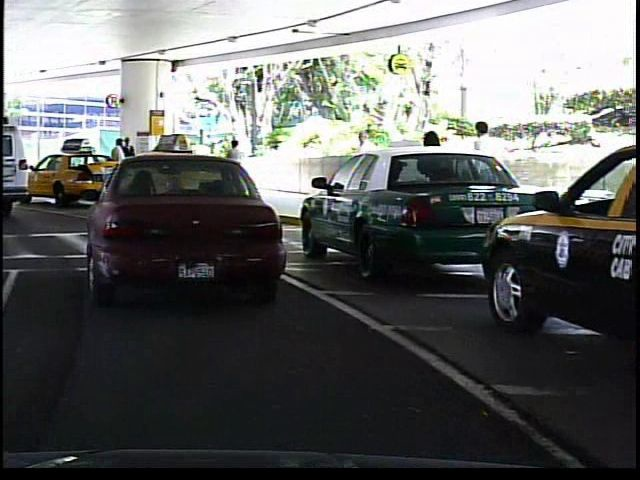person: (461, 113, 509, 230), (411, 121, 453, 228), (346, 123, 377, 203), (222, 136, 245, 191), (107, 137, 126, 191), (121, 133, 137, 190)
